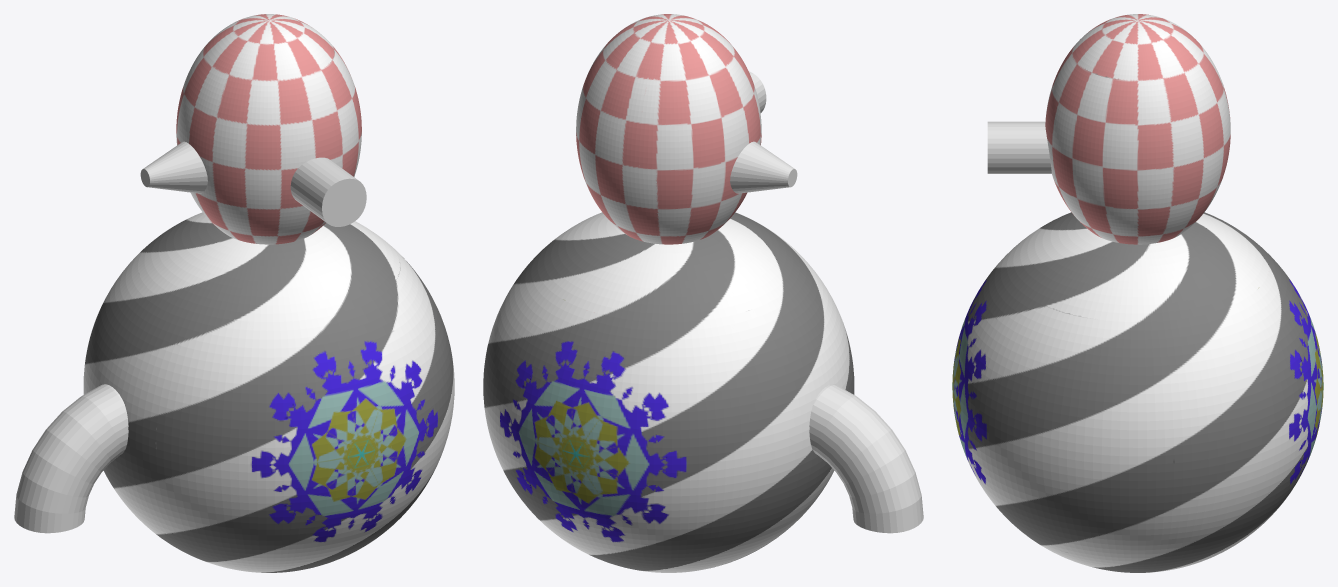
File: BOD0_BMC2_BCC0_BPT3_FRC14_HEA2_HMC11_HCC2_HPT4_ELT2_ERT0_ELL2_ERL0_AP1_AAL2_AAR2_BEK1.fbx
3 views of the same model, side by side, from view 1: azimuth 30°, elevation 25°; view 2: azimuth 150°, elevation 25°; view 3: azimuth 270°, elevation 25° (orthographic).
Visible parts, largest first — view 1: Body, Arm, Beak, Ear; view 2: Body, Arm, Ear; view 3: Body, Beak.
Part boxes in pixels (x1,y1,x2,y2): Body: [83, 14, 454, 572]; Arm: [14, 384, 128, 533]; Beak: [290, 157, 366, 226]; Ear: [140, 141, 207, 193]; Body: [483, 14, 854, 572]; Arm: [809, 384, 923, 533]; Ear: [730, 141, 797, 193]; Body: [952, 14, 1323, 572]; Beak: [987, 121, 1051, 173].
Bounding box in the file's own units: 62.99 × 78.65 × 49.36.
1 material, 1 textured.
